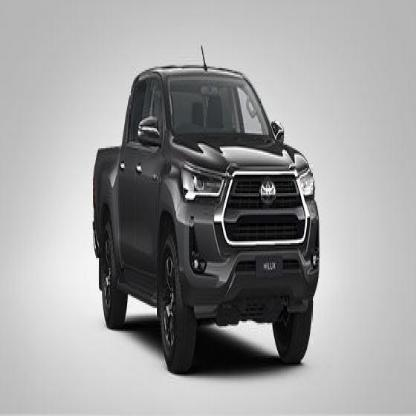light_vehicle: (90, 43, 322, 384)
